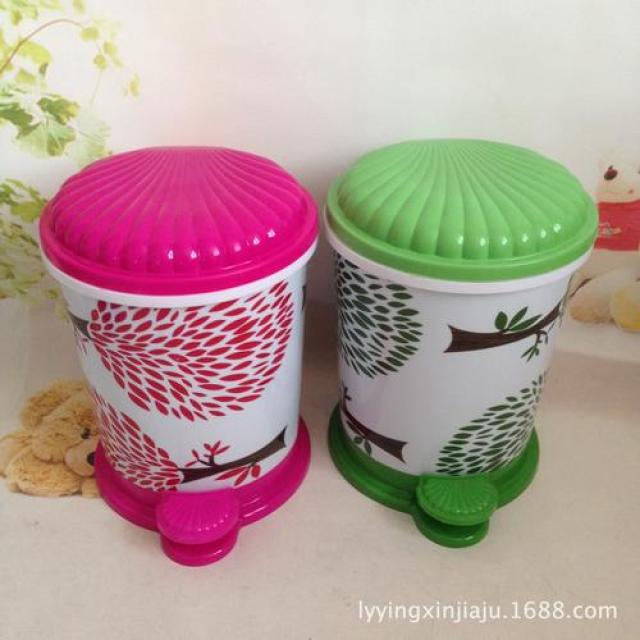dustbin: (32, 140, 320, 570), (321, 135, 606, 553)
